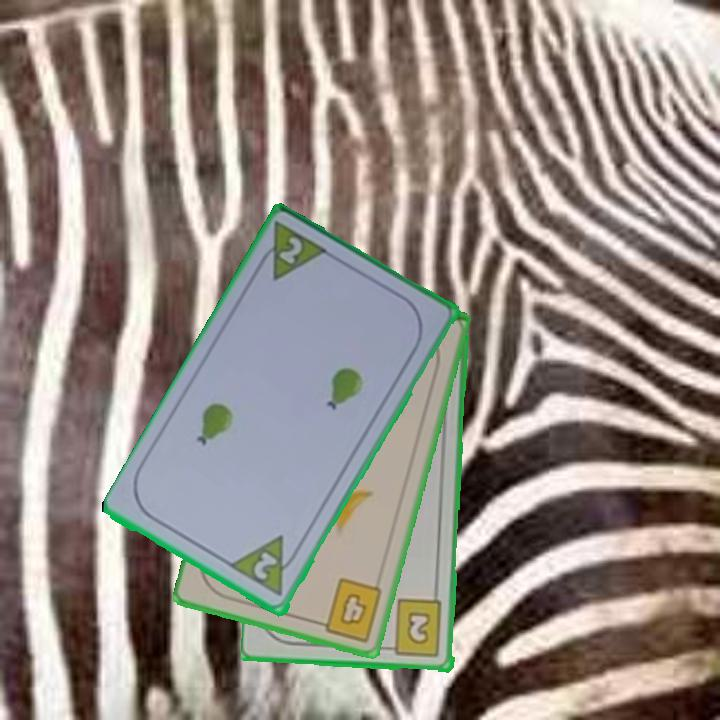2b: (382, 597, 445, 660)
2p: (251, 218, 333, 285), (249, 549, 281, 584)
4b: (311, 574, 386, 645)
